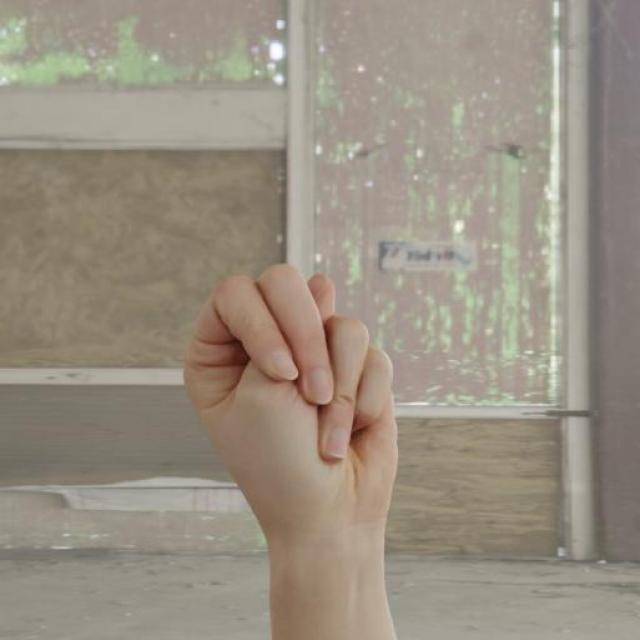N: (176, 256, 408, 598)
